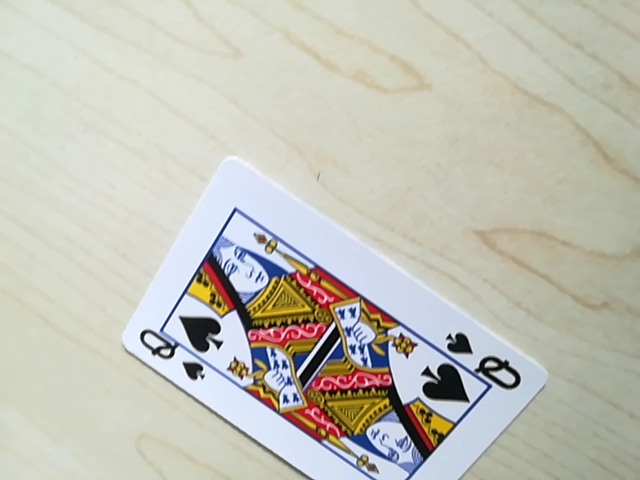ht q: (436, 337, 524, 386), (130, 328, 208, 381)
